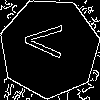V: (24, 23, 71, 59)
